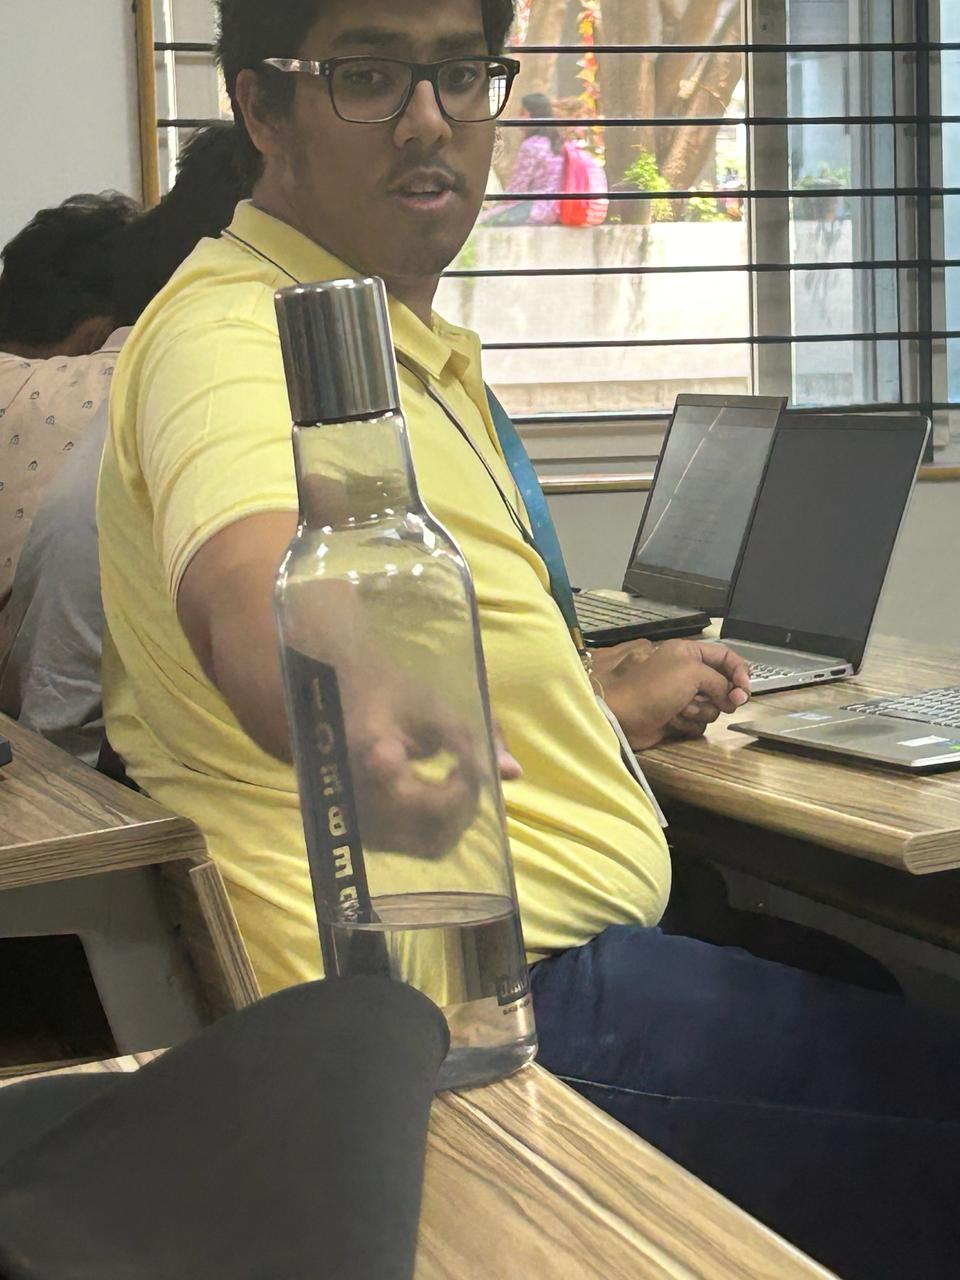bottle: (246, 261, 564, 1100)
